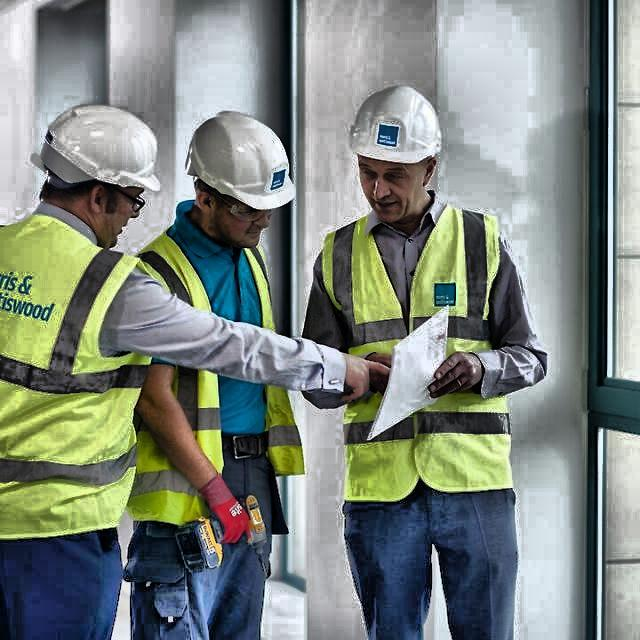person: (307, 71, 545, 640), (0, 96, 173, 640), (134, 112, 310, 633)
